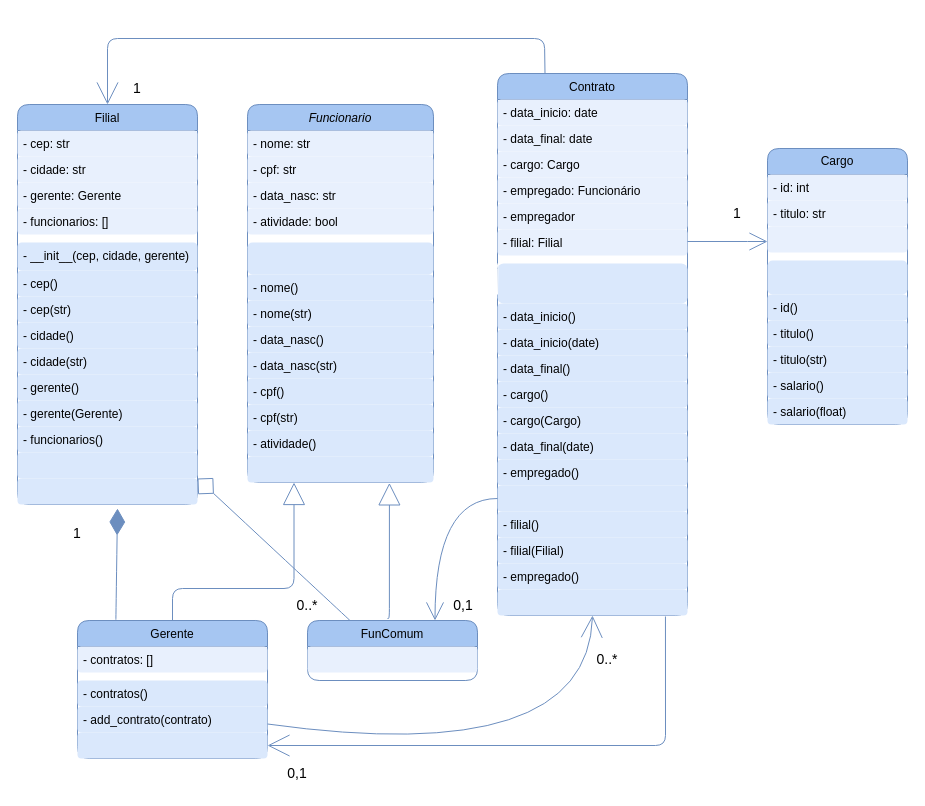
Image size: 925x806. Some labels were removed from this diagram. The centre of each missing label's shape, as x and y in pixels:
- __init__(data_inicio, cargo, empregado, filial, empregador): [592,283]
- __init__(nome, cpf, data_nasc): [340,258]
- __init__(titulo, salario): [837,277]
- add_funcionario(fun_comum): [107,465]
- atividade(bool): [340,469]
- empregado(Funcionario): [592,498]
- empregador(empregador): [592,602]
- rem_contrato(contrato): [172,745]
- rem_funcionario(fun_comum): [107,491]
- salario: float: [837,239]
